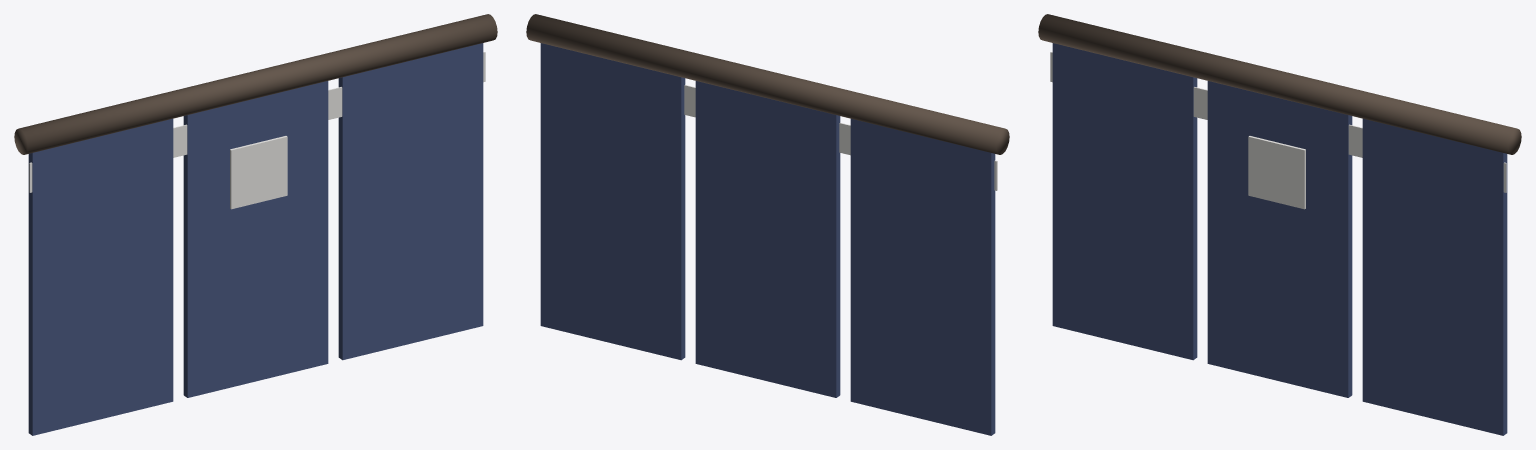
The model's file is prop_noren_kon.glb.
3 renders of one model, left to right at view 1: azimuth 30°, elevation 25°; view 2: azimuth 150°, elevation 25°; view 3: azimuth 330°, elevation 25°, orthographic.
Visible parts, largest first — view 1: noren_kon; view 2: noren_kon; view 3: noren_kon.
Boxes of the visible parts, <box> form: noren_kon: <box>14,14,497,435</box>; noren_kon: <box>526,14,1009,435</box>; noren_kon: <box>1038,14,1521,435</box>.
Bounding box in the file's own units: 2 × 1.25 × 0.1.
